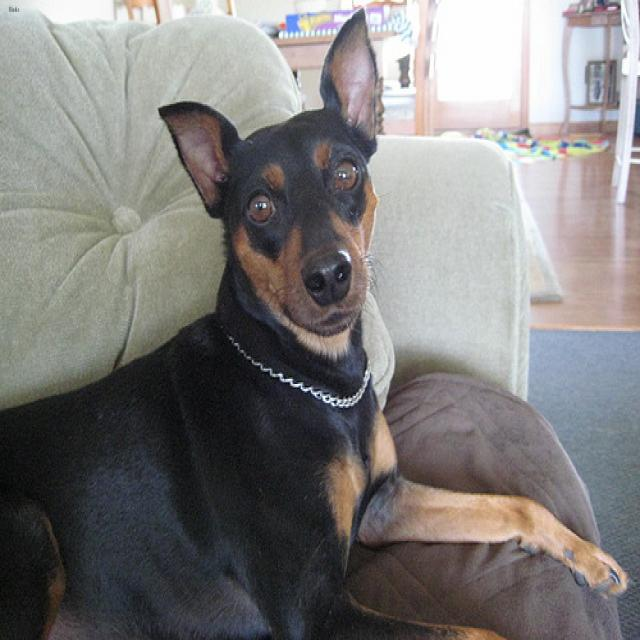dog-miniature_pinscher: (1, 2, 637, 637)
